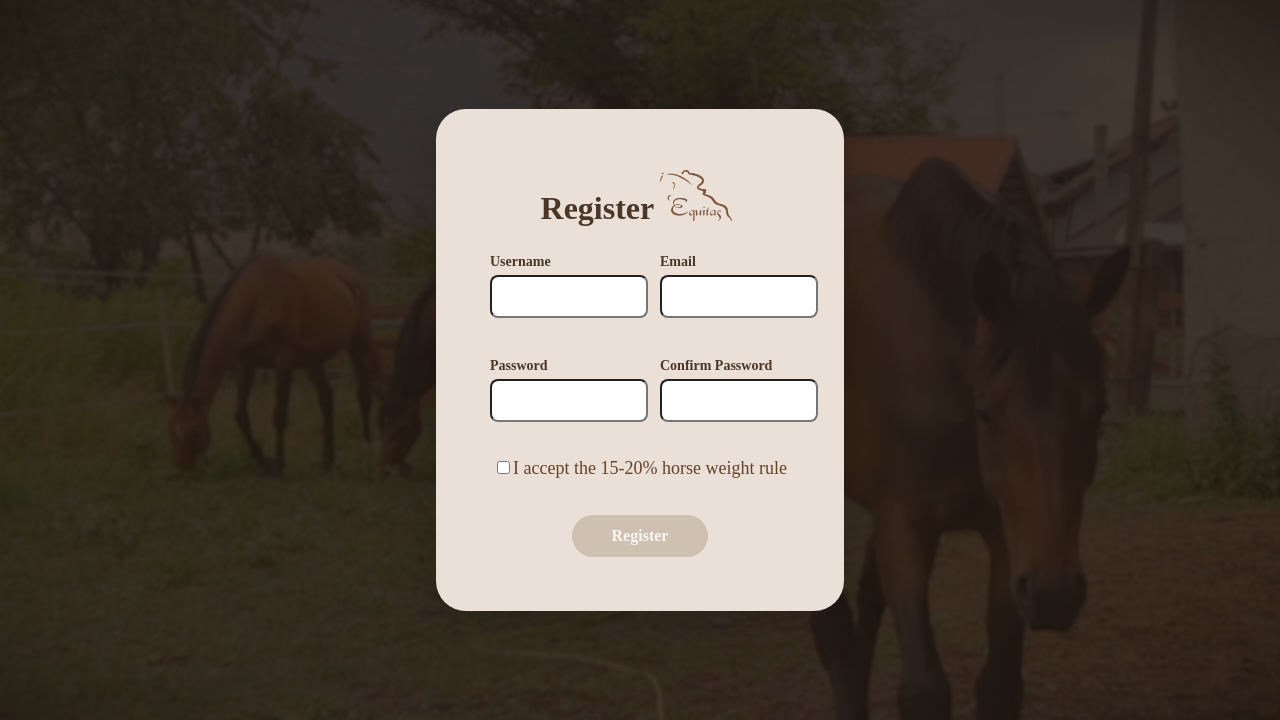
Scenario: RegisterForm › submit button becomes enabled after checking the disclaimer
The width and height of the screenshot is (1280, 720).
What coordinates should you click on to do the following:
click the checkbox
I would click on:
 (504, 467)
Its box is [497,461,510,474].
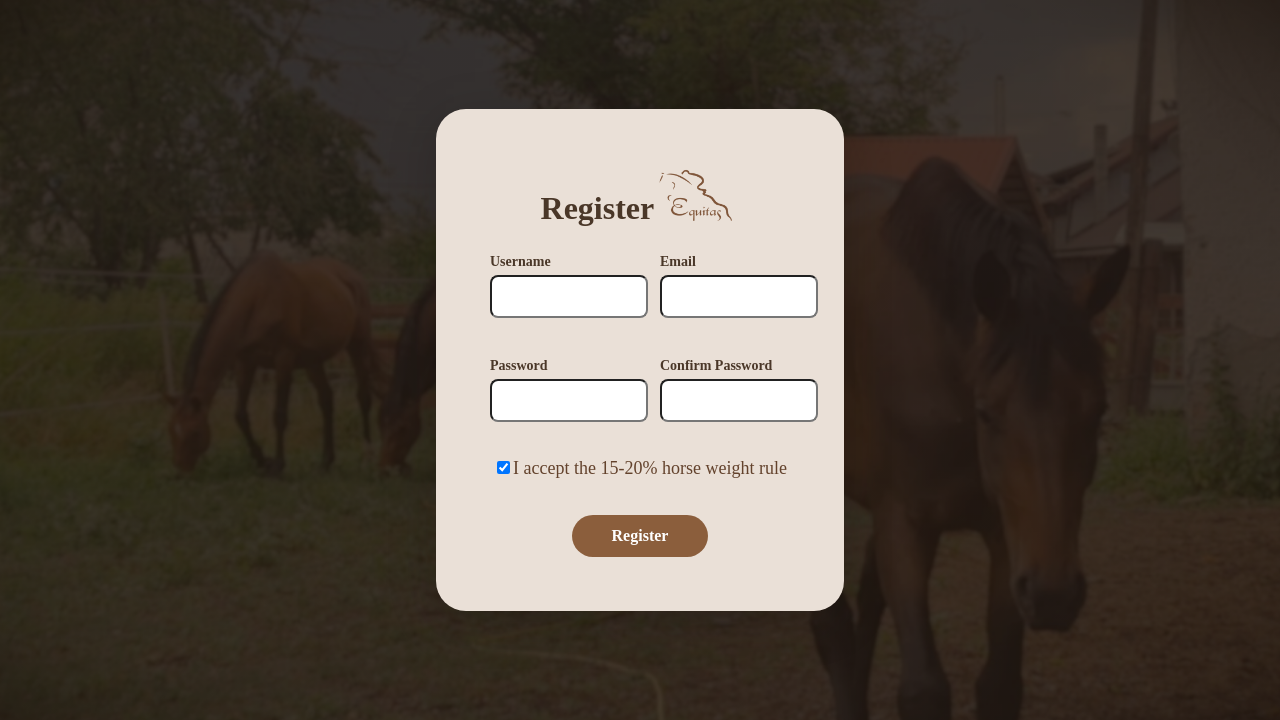
Result: the button "Register" is enabled at [572,515,708,557]
